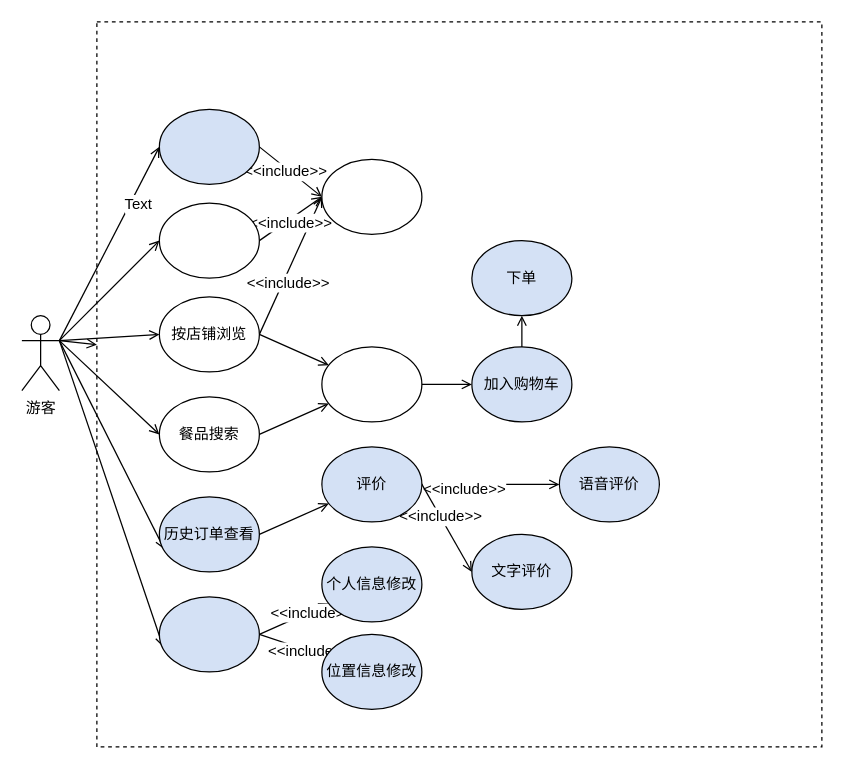
This 844x769 diagram has some shape labels left out. Each missing label, with the box of its shape:
个人信息查看: (158, 596, 259, 672)
地理位置修改: (158, 202, 259, 278)
定位服务: (321, 158, 422, 234)
抢单: (158, 108, 259, 184)
选择餐品: (321, 346, 422, 422)
